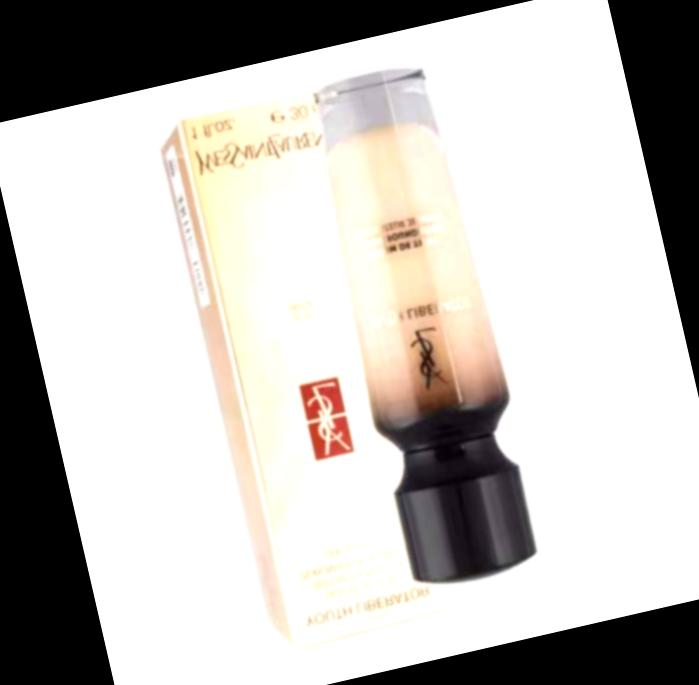cosmetic: (296, 59, 547, 585)
